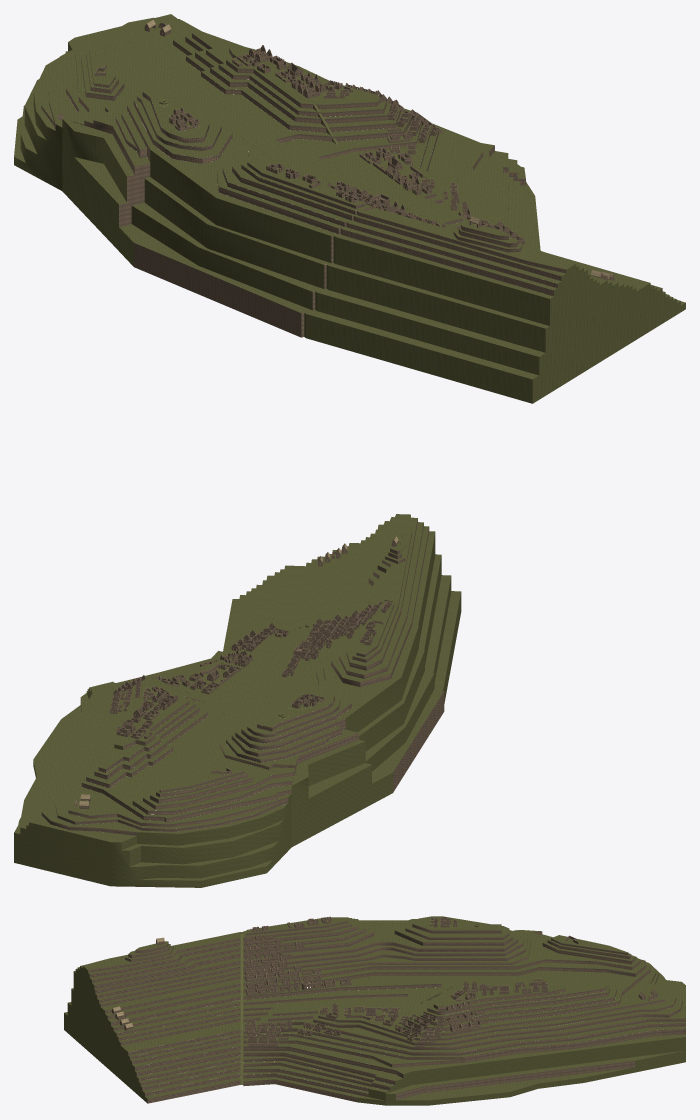
File: machupicchu.glb
The picture shows the model from 3 angles, top to bottom: view 1: azimuth 30°, elevation 25°; view 2: azimuth 150°, elevation 25°; view 3: azimuth 270°, elevation 25°; orthographic projection. The views are drawn at different scales.
Visible parts, largest first — view 1: GDLM1_Vegetation_HoneyLocus_GDLM1_Vegetation_HoneyLocus_0, GDLM2_Groundcover_RiverRock_GDLM2_Groundcover_RiverRock_0, GDLM3_Groundcover_BarkChips_GDLM3_Groundcover_BarkChips_0, GDLM8_Groundcover_Sand_Smoo_GDLM8_Groundcover_Sand_Smoo_0; view 2: GDLM1_Vegetation_HoneyLocus_GDLM1_Vegetation_HoneyLocus_0, GDLM2_Groundcover_RiverRock_GDLM2_Groundcover_RiverRock_0, GDLM3_Groundcover_BarkChips_GDLM3_Groundcover_BarkChips_0, GDLM8_Groundcover_Sand_Smoo_GDLM8_Groundcover_Sand_Smoo_0; view 3: GDLM1_Vegetation_HoneyLocus_GDLM1_Vegetation_HoneyLocus_0, GDLM2_Groundcover_RiverRock_GDLM2_Groundcover_RiverRock_0, GDLM3_Groundcover_BarkChips_GDLM3_Groundcover_BarkChips_0, GDLM8_Groundcover_Sand_Smoo_GDLM8_Groundcover_Sand_Smoo_0, GDLM4_Cladding_Siding_White_GDLM4_Cladding_Siding_White_0.
Boxes of the visible parts, box(x1,y1,x2,y2) form: GDLM1_Vegetation_HoneyLocus_GDLM1_Vegetation_HoneyLocus_0: box(14, 14, 685, 403); GDLM2_Groundcover_RiverRock_GDLM2_Groundcover_RiverRock_0: box(41, 17, 676, 337); GDLM3_Groundcover_BarkChips_GDLM3_Groundcover_BarkChips_0: box(94, 22, 614, 337); GDLM8_Groundcover_Sand_Smoo_GDLM8_Groundcover_Sand_Smoo_0: box(156, 70, 427, 185); GDLM1_Vegetation_HoneyLocus_GDLM1_Vegetation_HoneyLocus_0: box(14, 514, 461, 887); GDLM2_Groundcover_RiverRock_GDLM2_Groundcover_RiverRock_0: box(41, 518, 429, 835); GDLM3_Groundcover_BarkChips_GDLM3_Groundcover_BarkChips_0: box(75, 540, 444, 809); GDLM8_Groundcover_Sand_Smoo_GDLM8_Groundcover_Sand_Smoo_0: box(136, 663, 322, 720); GDLM1_Vegetation_HoneyLocus_GDLM1_Vegetation_HoneyLocus_0: box(64, 916, 685, 1105); GDLM2_Groundcover_RiverRock_GDLM2_Groundcover_RiverRock_0: box(88, 921, 685, 1103); GDLM3_Groundcover_BarkChips_GDLM3_Groundcover_BarkChips_0: box(112, 916, 657, 1046); GDLM8_Groundcover_Sand_Smoo_GDLM8_Groundcover_Sand_Smoo_0: box(341, 919, 511, 1027); GDLM4_Cladding_Siding_White_GDLM4_Cladding_Siding_White_0: box(240, 934, 243, 1031).
Size of the model in its own units: 29154 by 8346 by 53137.
Materials: 9 (8 with a texture image).
